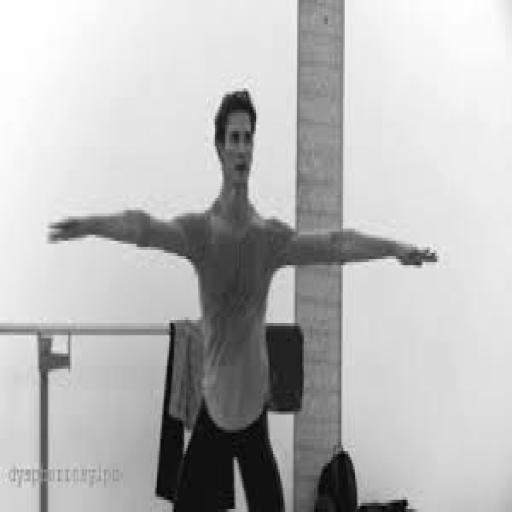dancing: (44, 85, 440, 509)
